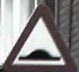Speed Breaker ahead: (7, 2, 68, 68)
